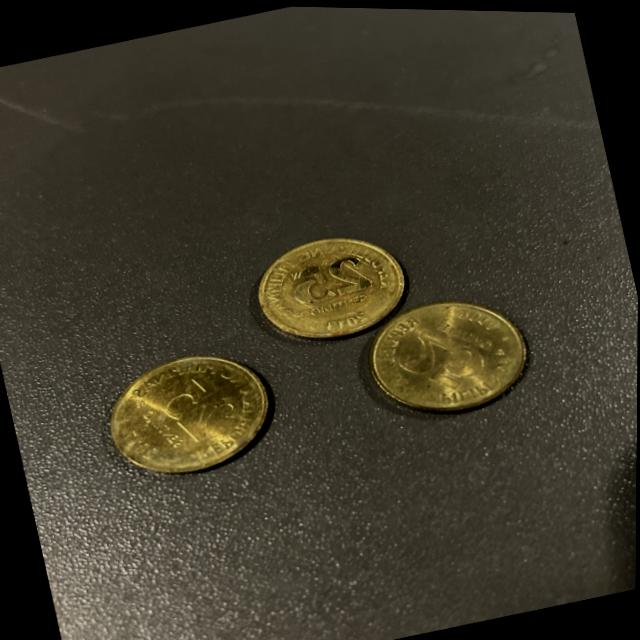25Cent_Old_Front: (255, 239, 398, 331)
